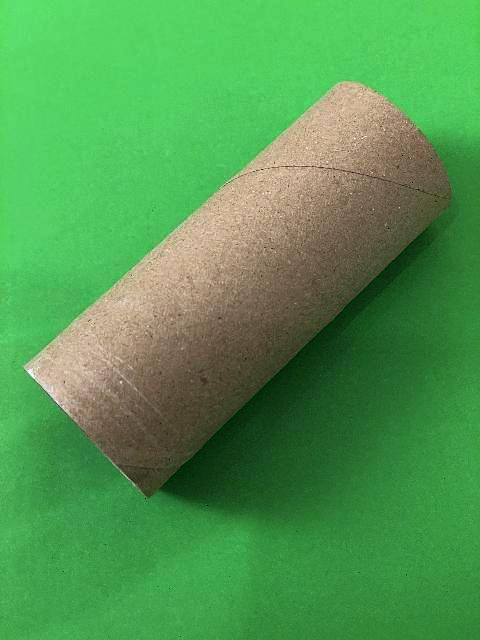tissueroll: (22, 78, 454, 498)
